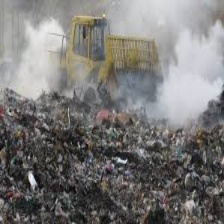smoke: (173, 48, 220, 120), (18, 22, 61, 92)
